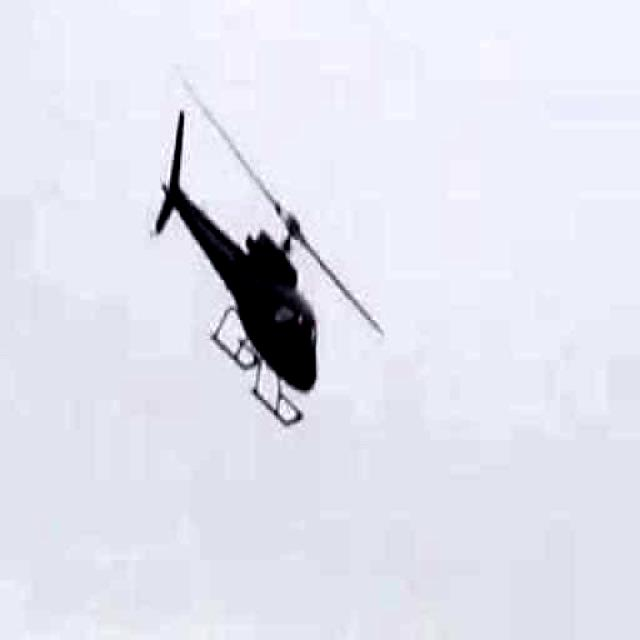drone: (80, 70, 402, 470)
